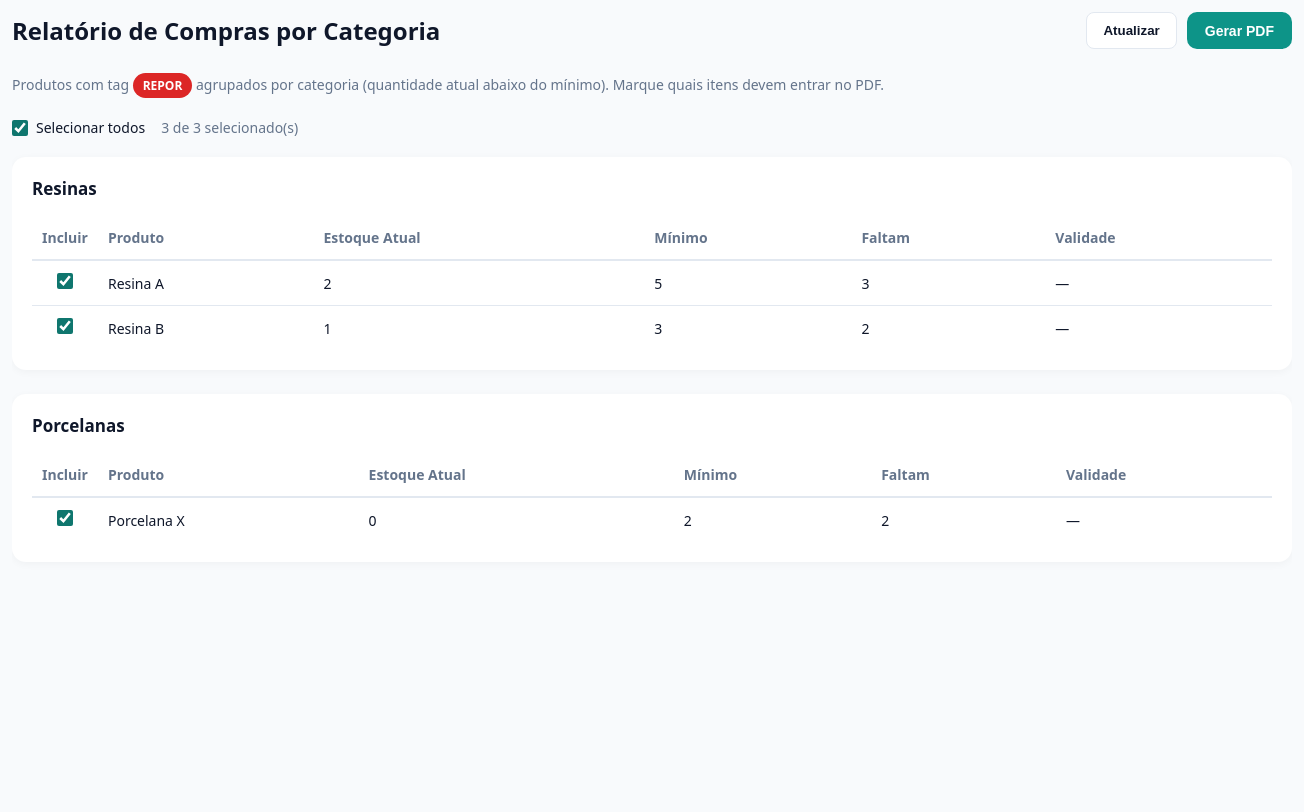
RelatorioCompras › avisa ao tentar gerar sem nenhum item selecionado
The width and height of the screenshot is (1304, 812).
Expected: the text "Resina A" is shown, [98,260,313,306]
Step 1. Click the checkbox labelled "Selecionar todos" → [20, 128], box [12,120,28,136]
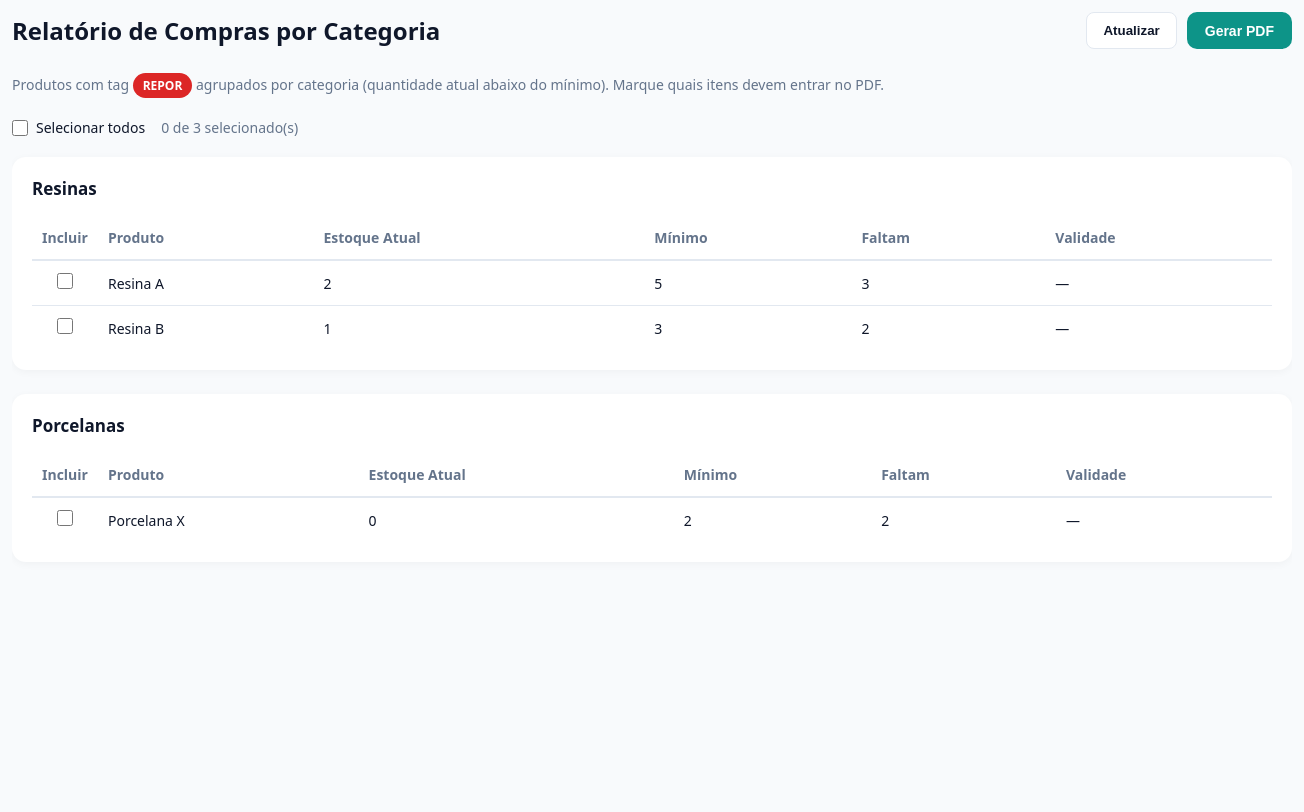
Step 2. Click the button "Gerar PDF" → [1239, 30], box [1187,12,1292,49]
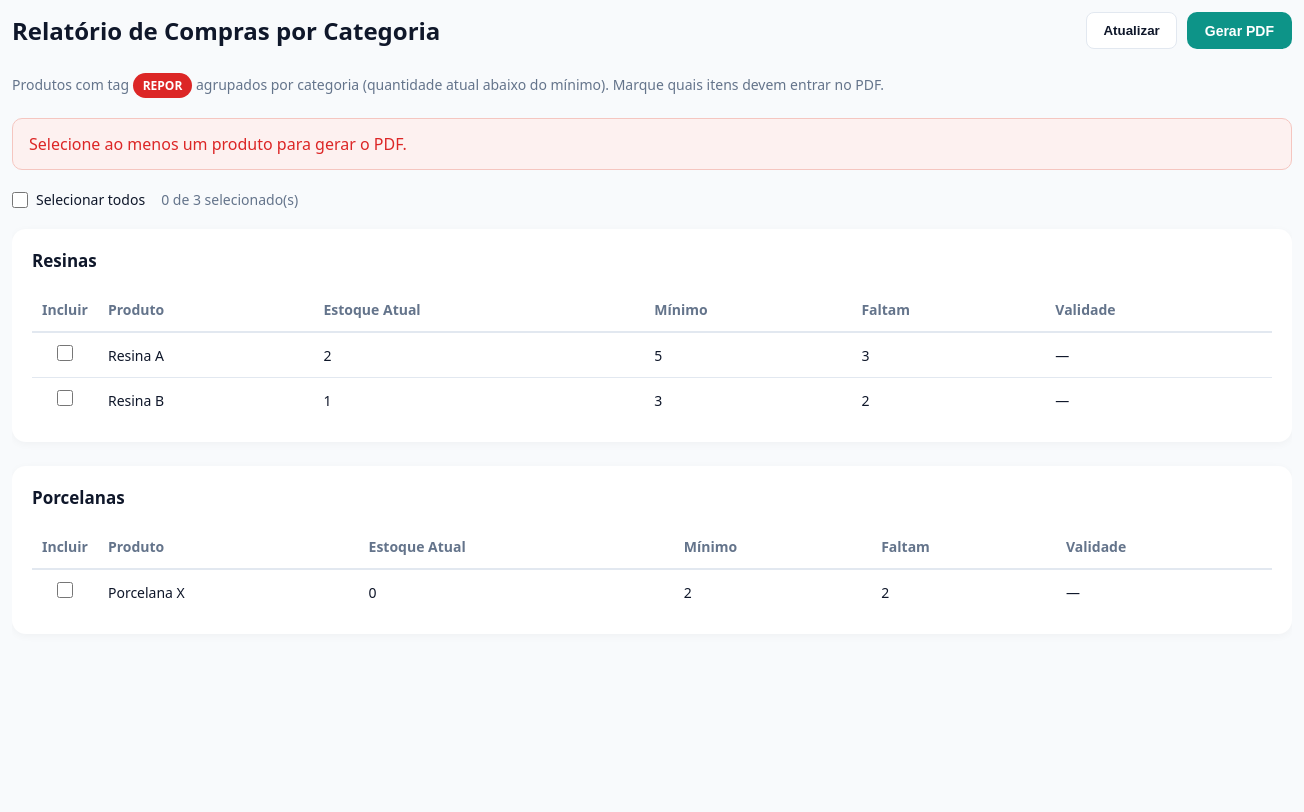
Result: the text "Selecione ao menos um produto para gerar o PDF." is shown at [12,118,1292,170]
